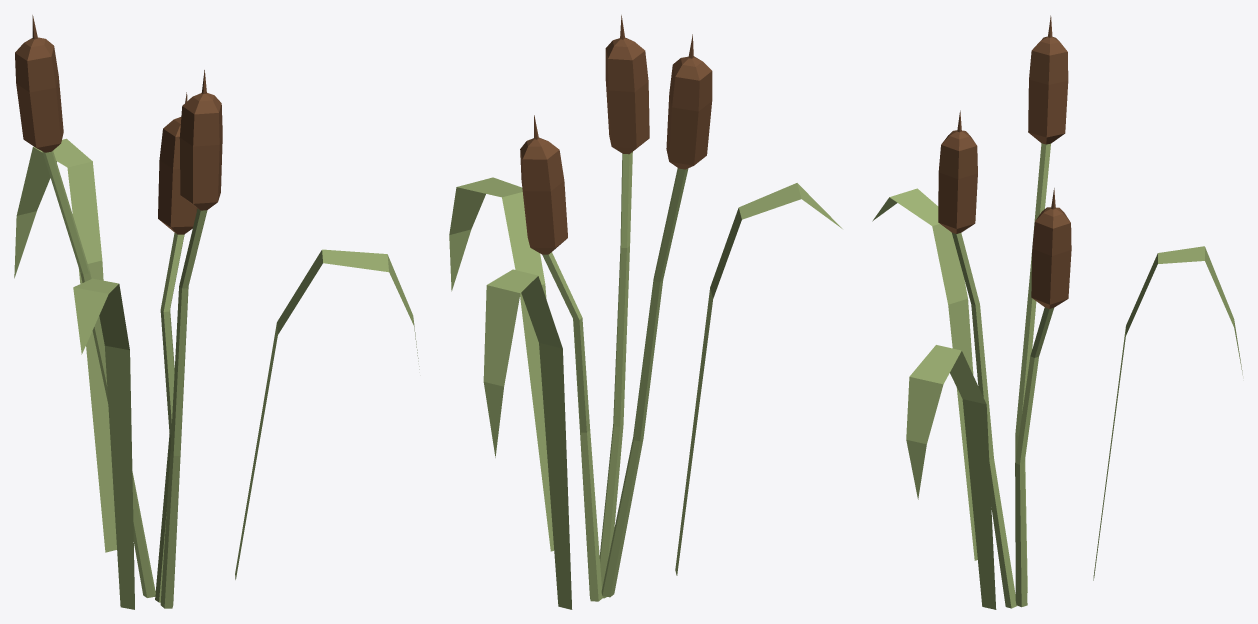
Rendered from reed.obj.
3 renders of one model, left to right at view 1: azimuth 30°, elevation 25°; view 2: azimuth 150°, elevation 25°; view 3: azimuth 270°, elevation 25°, orthographic. The views are drawn at different scales.
Size of the model in its own units: 3.54 by 5.61 by 3.48.
